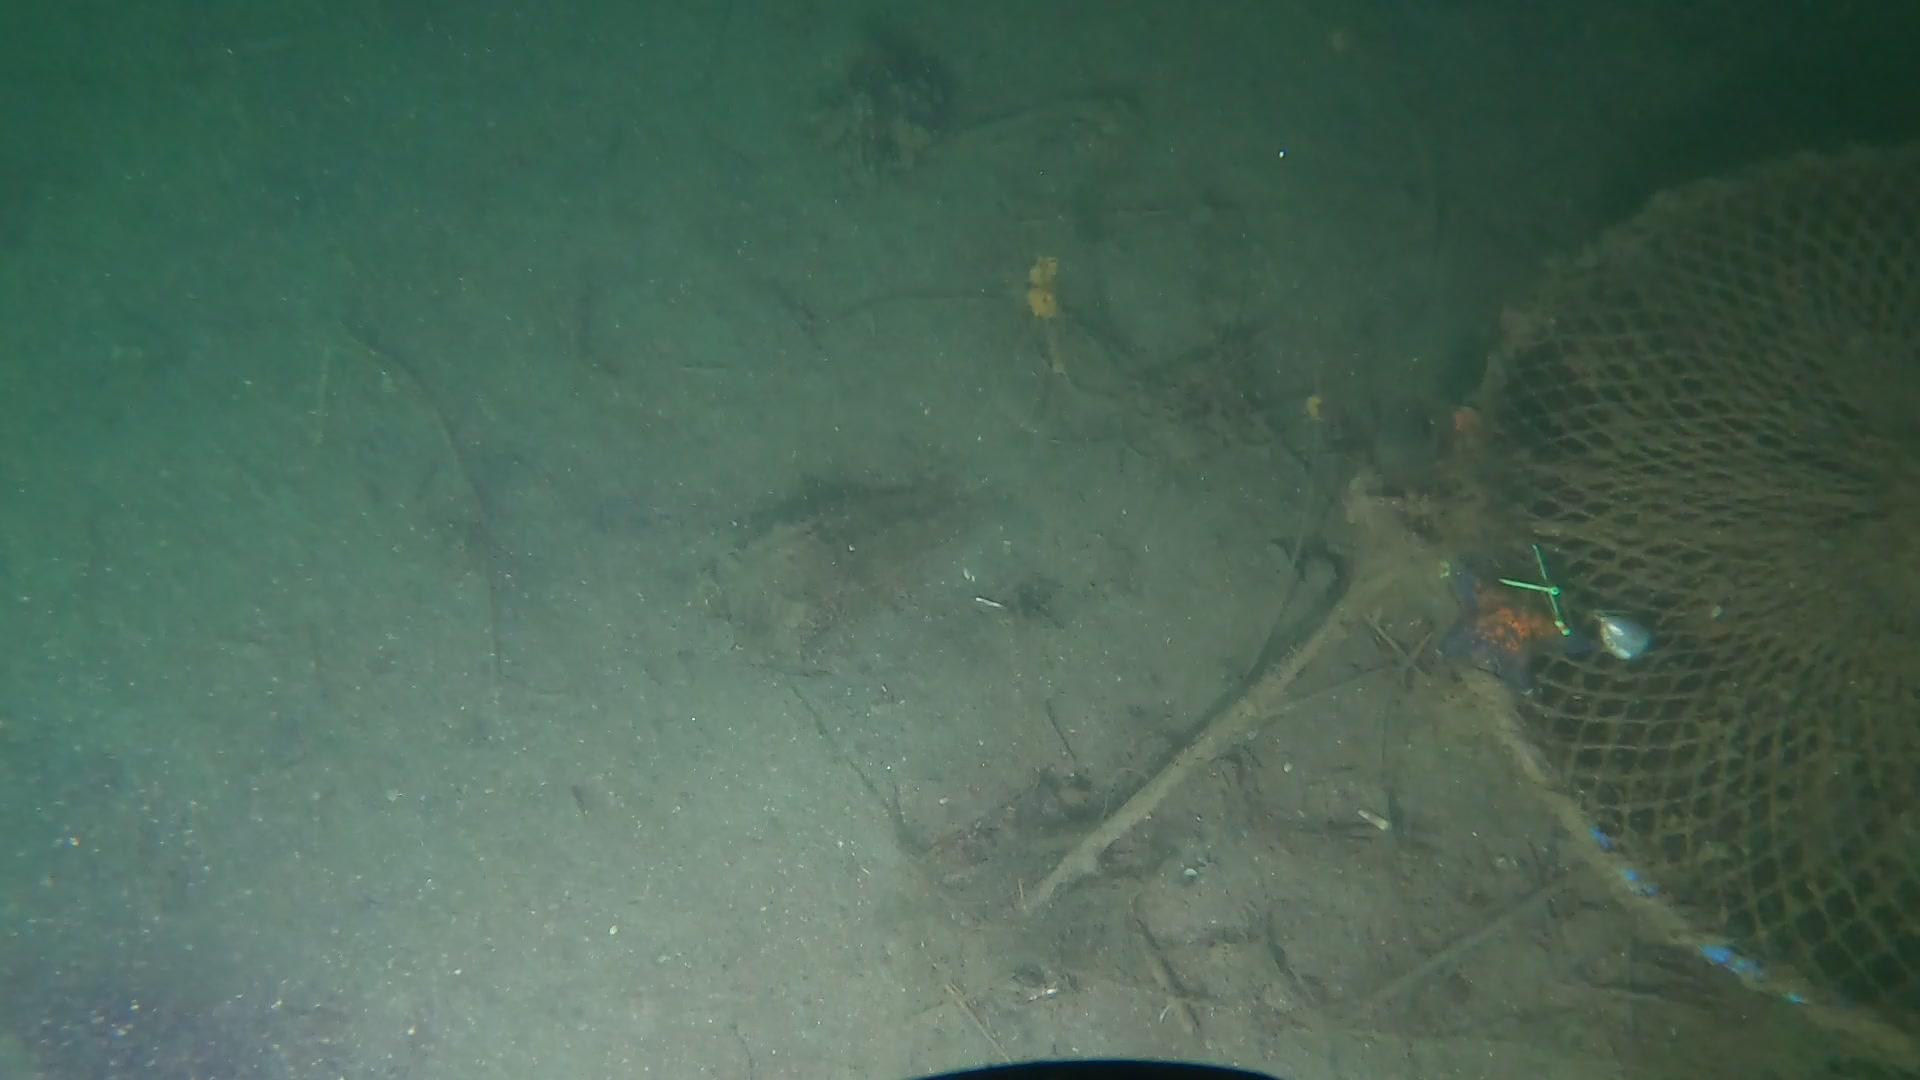circular fish trap: (1431, 148, 1920, 1072)
